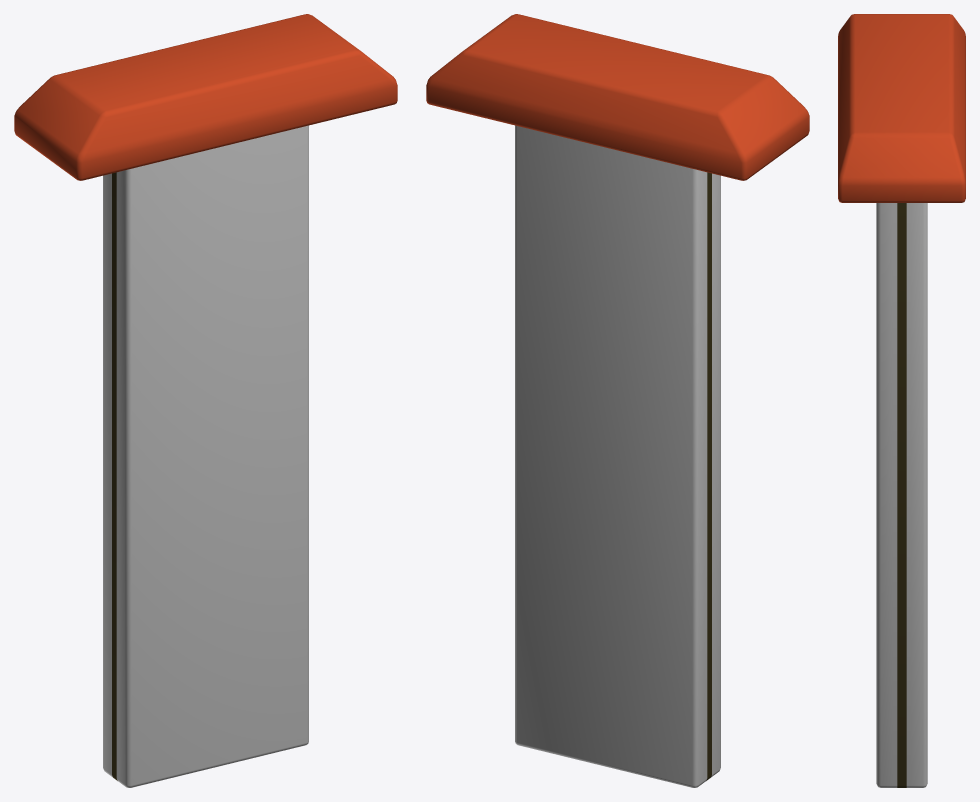
Rendered from head.obj.
The picture shows the model from 3 angles, left to right: view 1: azimuth 30°, elevation 25°; view 2: azimuth 150°, elevation 25°; view 3: azimuth 270°, elevation 25°; orthographic projection. The views are drawn at different scales.
Parts seen in each view (by area): view 1: head; view 2: head; view 3: head.
Boxes of the visible parts, box(x1,y1,x2,y2) form: head: box(14, 14, 397, 787); head: box(426, 14, 809, 787); head: box(838, 14, 965, 787).
Size of the model in its own units: 0.7 by 1.45 by 0.25.
